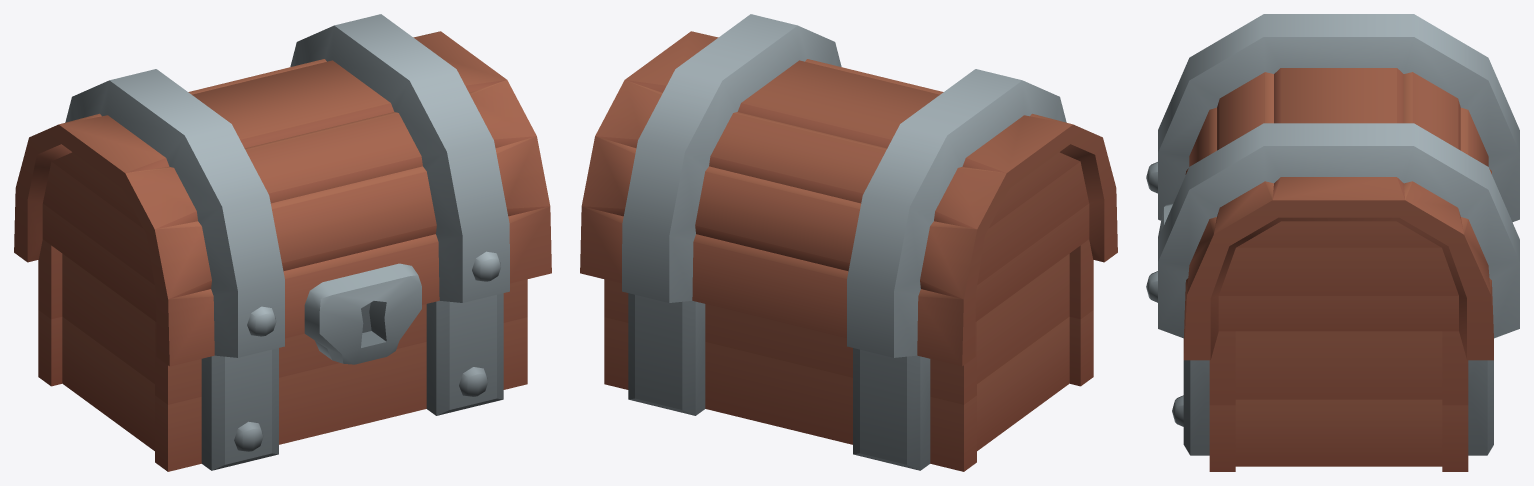
File: chest.gltf
The picture shows the model from 3 angles, left to right: view 1: azimuth 30°, elevation 25°; view 2: azimuth 150°, elevation 25°; view 3: azimuth 270°, elevation 25°; orthographic projection.
Parts seen in each view (by area): view 1: chest_gold_lid, chest; view 2: chest_gold_lid, chest; view 3: chest_gold_lid, chest.
Boxes of the visible parts, bbox=[...] form: chest_gold_lid: bbox=[14, 14, 551, 366]; chest: bbox=[38, 239, 527, 471]; chest_gold_lid: bbox=[580, 14, 1117, 366]; chest: bbox=[604, 239, 1093, 471]; chest_gold_lid: bbox=[1146, 14, 1519, 360]; chest: bbox=[1172, 331, 1493, 471].
Bounding box in the file's own units: 1.7 × 1.3 × 1.45.
Materials: 2 (2 with a texture image).
